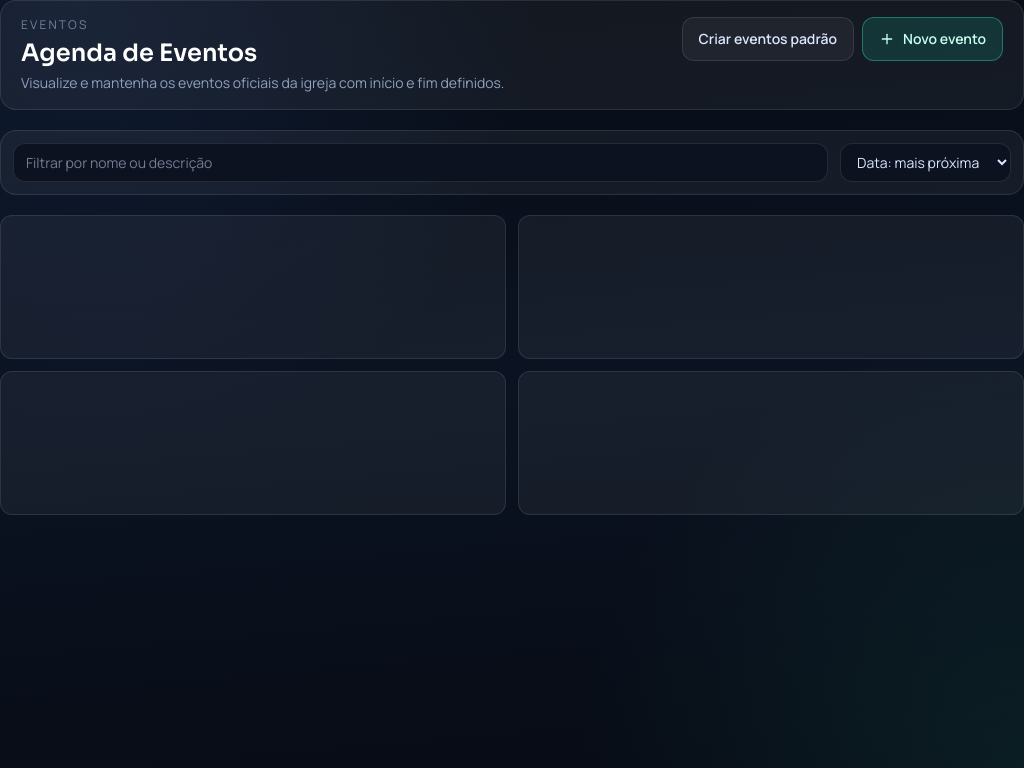
Scenario: EventsPage — Recorrência › should open create modal with basic fields
The width and height of the screenshot is (1024, 768).
Click the button "Novo evento". click: (933, 39)
box: [862,17,1003,61]
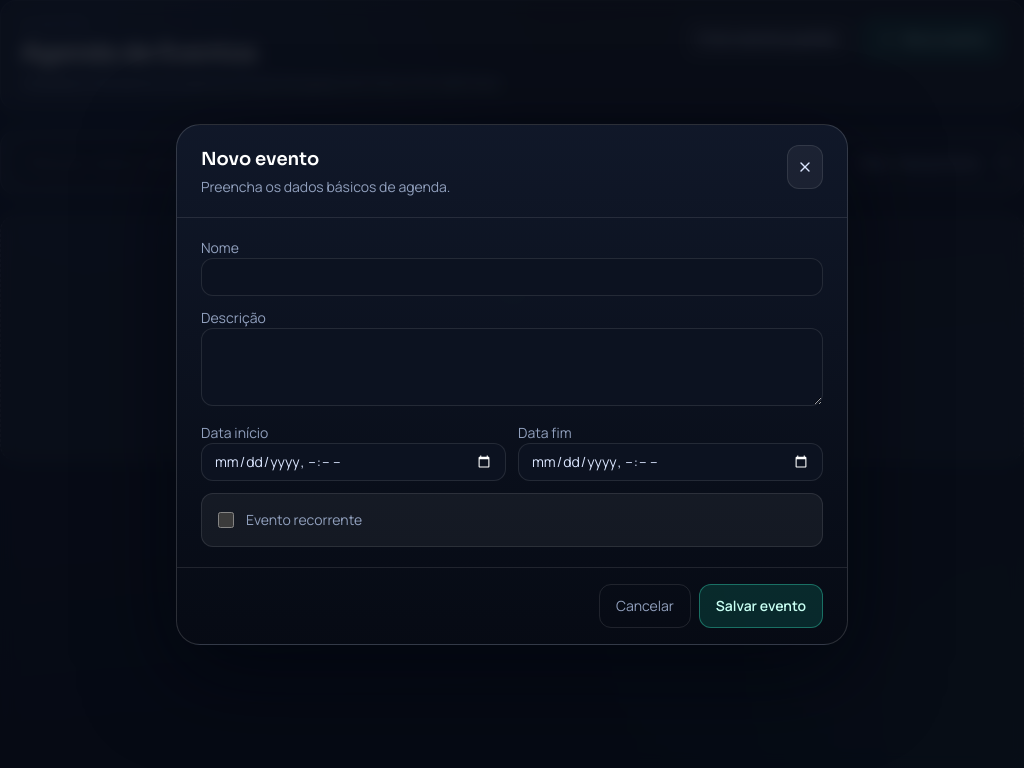
Check: the text box labelled "Descrição" is shown, box [201,328,823,406]
Check: the field labelled "Data início" is shown, box [201,442,506,480]
Check: the field labelled "Data fim" is shown, box [518,442,823,480]
